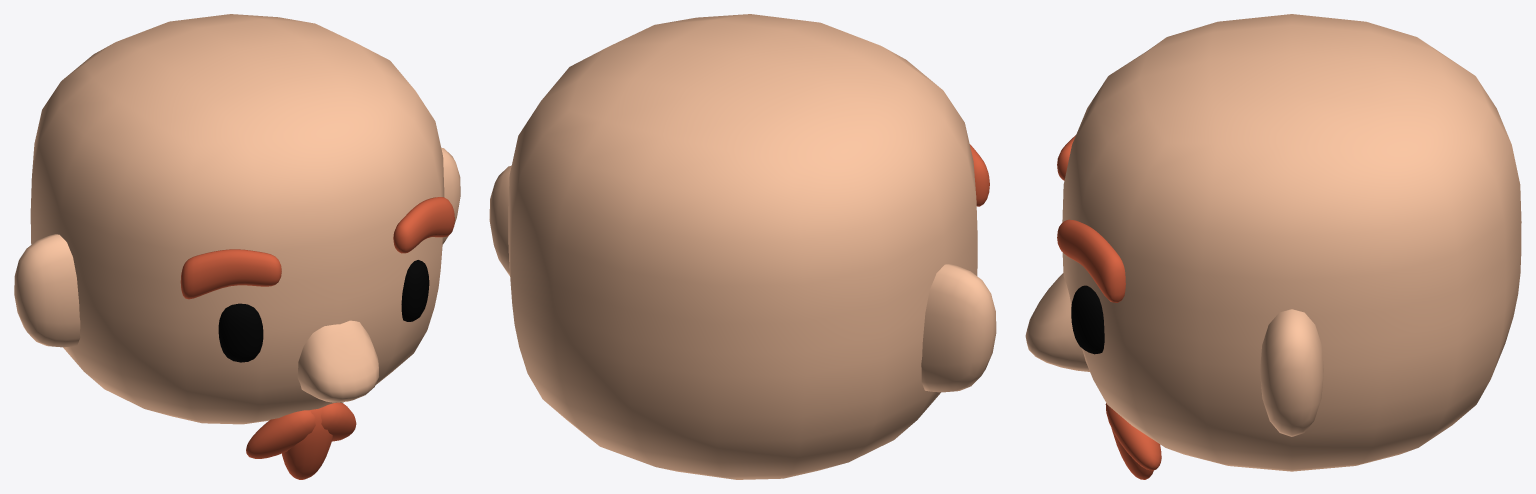
The model's file is Knight5_Head.glb.
The picture shows the model from 3 angles, left to right: view 1: azimuth 30°, elevation 25°; view 2: azimuth 150°, elevation 25°; view 3: azimuth 270°, elevation 25°; orthographic projection. The views are drawn at different scales.
Parts seen in each view (by area): view 1: Knight5_Head; view 2: Knight5_Head; view 3: Knight5_Head.
Boxes of the visible parts, x1,y1,x2,y2 form: Knight5_Head: [14, 14, 460, 479]; Knight5_Head: [489, 14, 996, 479]; Knight5_Head: [1025, 14, 1521, 479].
Bounding box in the file's own units: 1.79 × 1.48 × 1.56.
